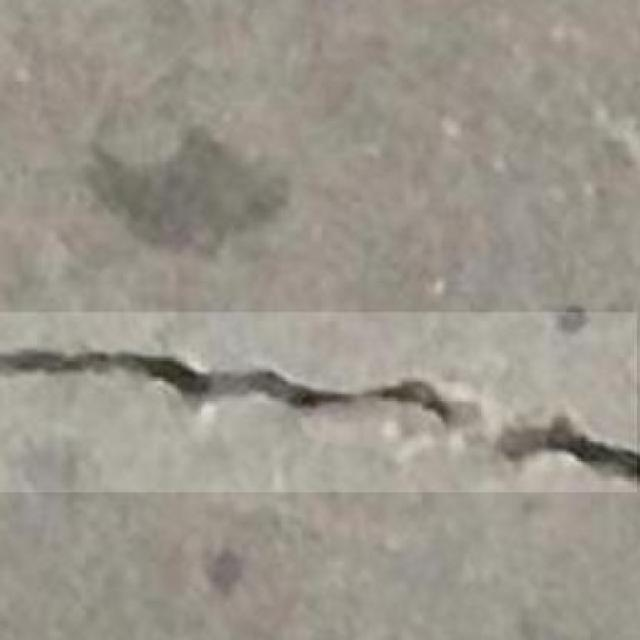Crack: (0, 323, 640, 496)
